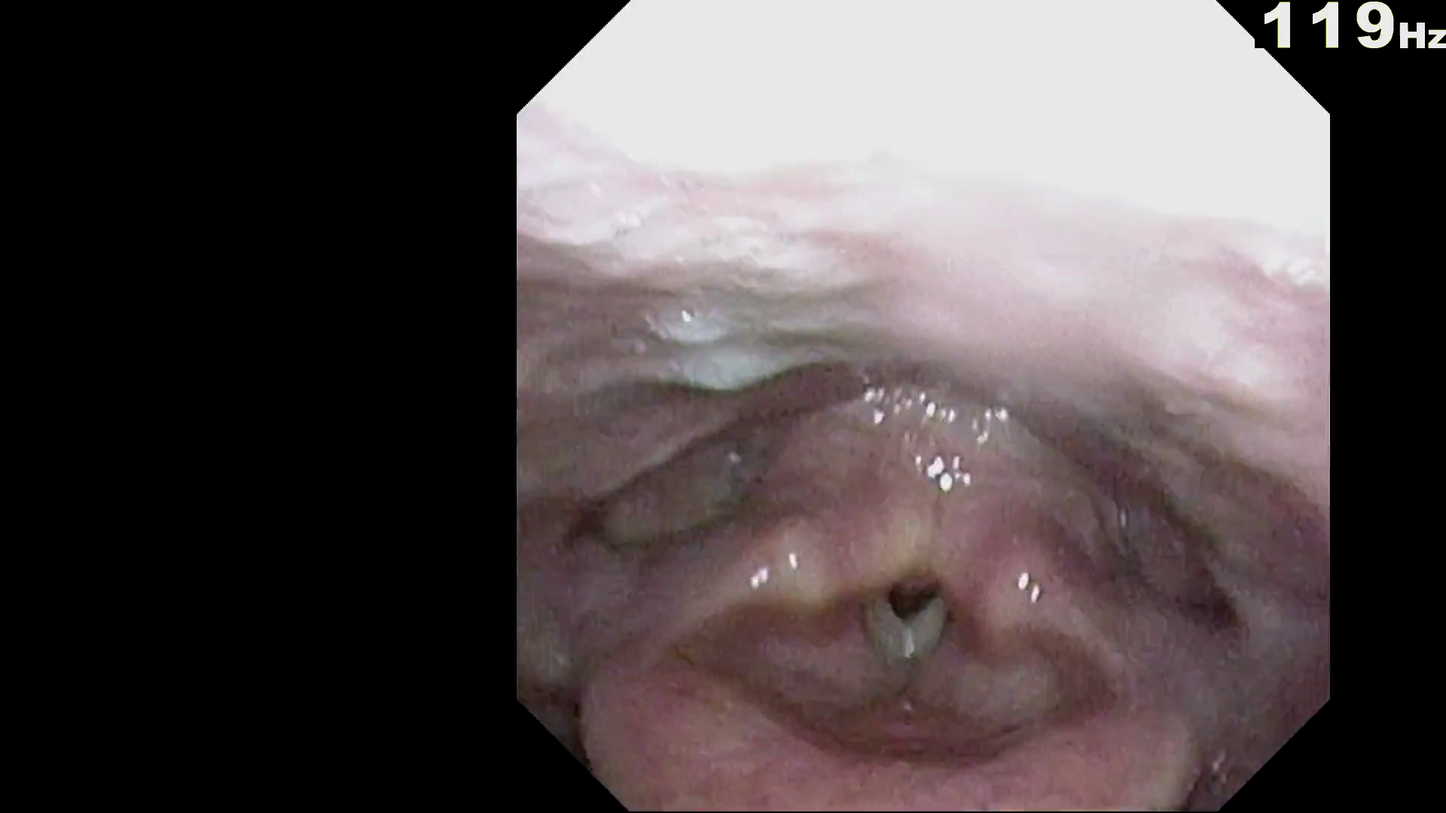epiglottis: (633, 694, 1192, 803)
trachea: (849, 551, 968, 663)
